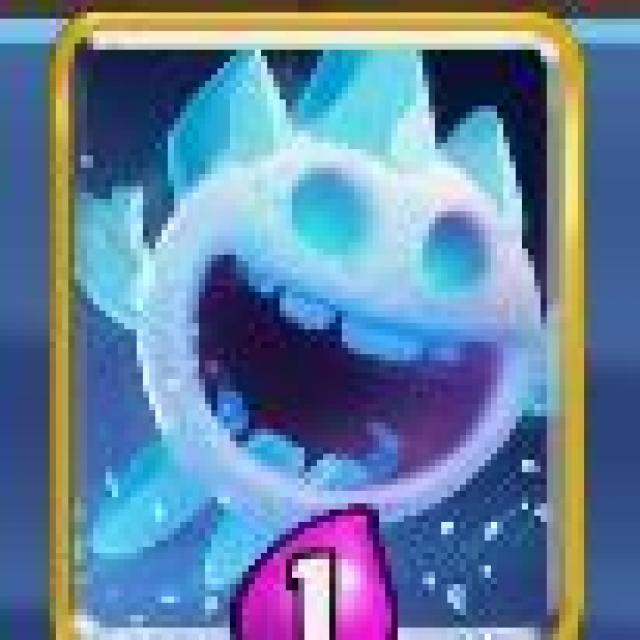Ice_Spirit: (49, 14, 583, 634)
